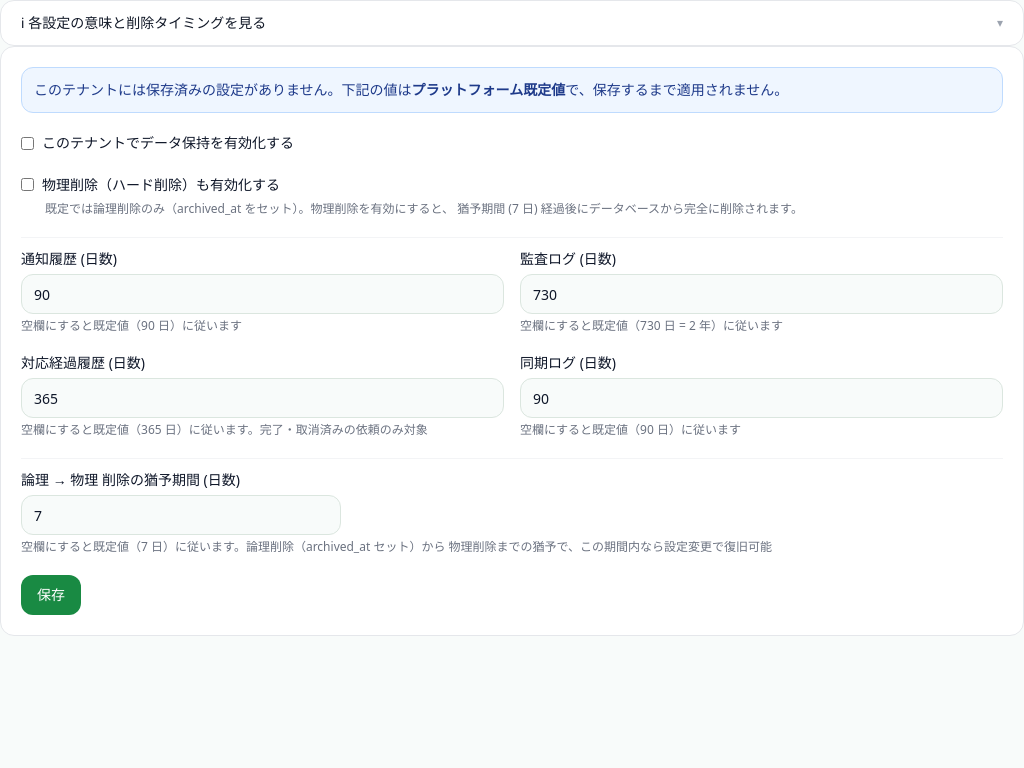
it: NDG-94: RetentionConfigForm client validation › multiple invalid fields are all listed in the warning
Replace the text in the number field labelled "通知履歴 (日数)" with "0" at (262, 294), box top-left (21, 274), bottom-right (504, 314)
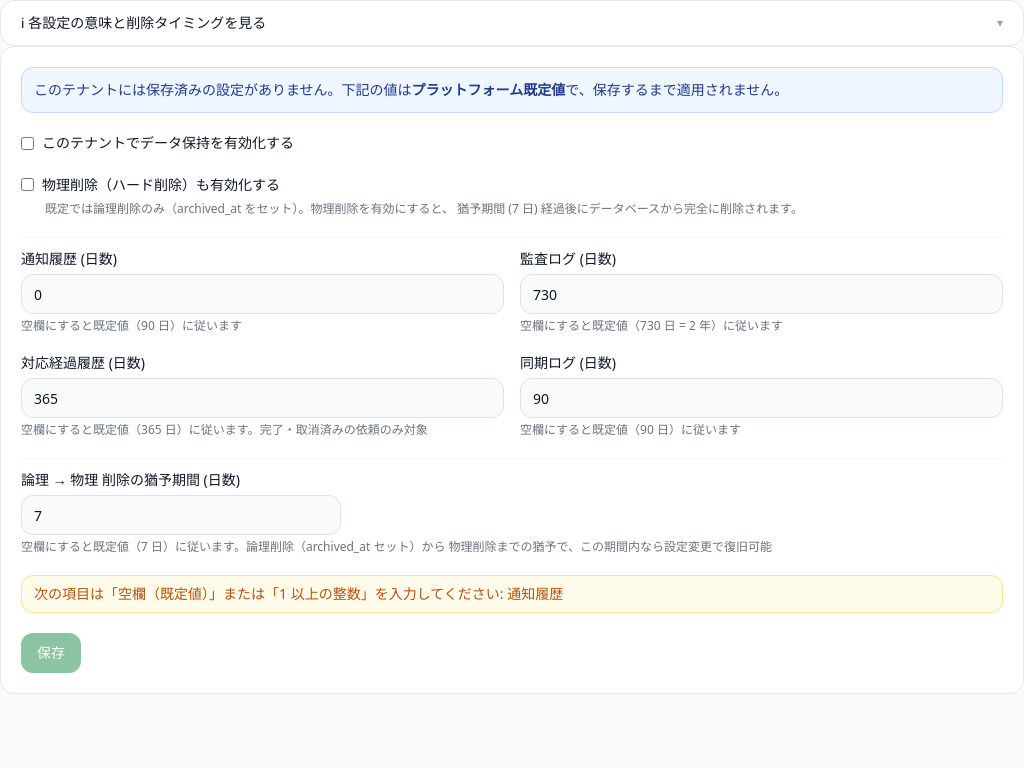
Replace the text in the number field labelled "監査ログ (日数)" with "-5" at (762, 294), box top-left (520, 274), bottom-right (1003, 314)
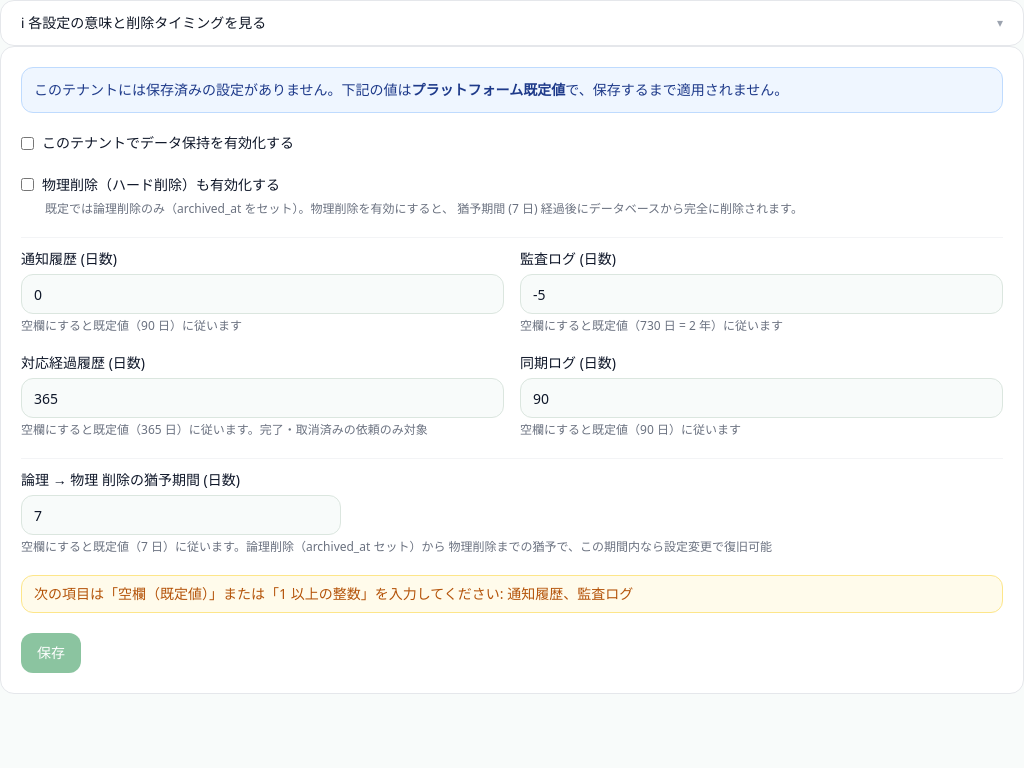
Expected: the text "次の項目は「空欄（既定値）」または「1 以上の整数」を入力してください: 通知履歴、監査ログ" is shown, top-left (21, 575), bottom-right (1003, 613)
